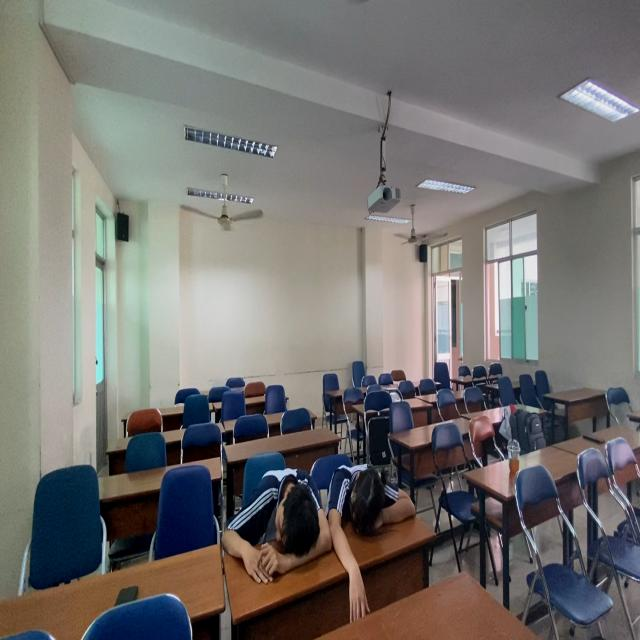sleep: (220, 461, 336, 590), (329, 454, 422, 565)
